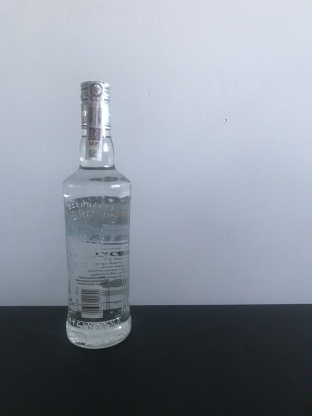nakretka: (78, 76, 113, 133)
